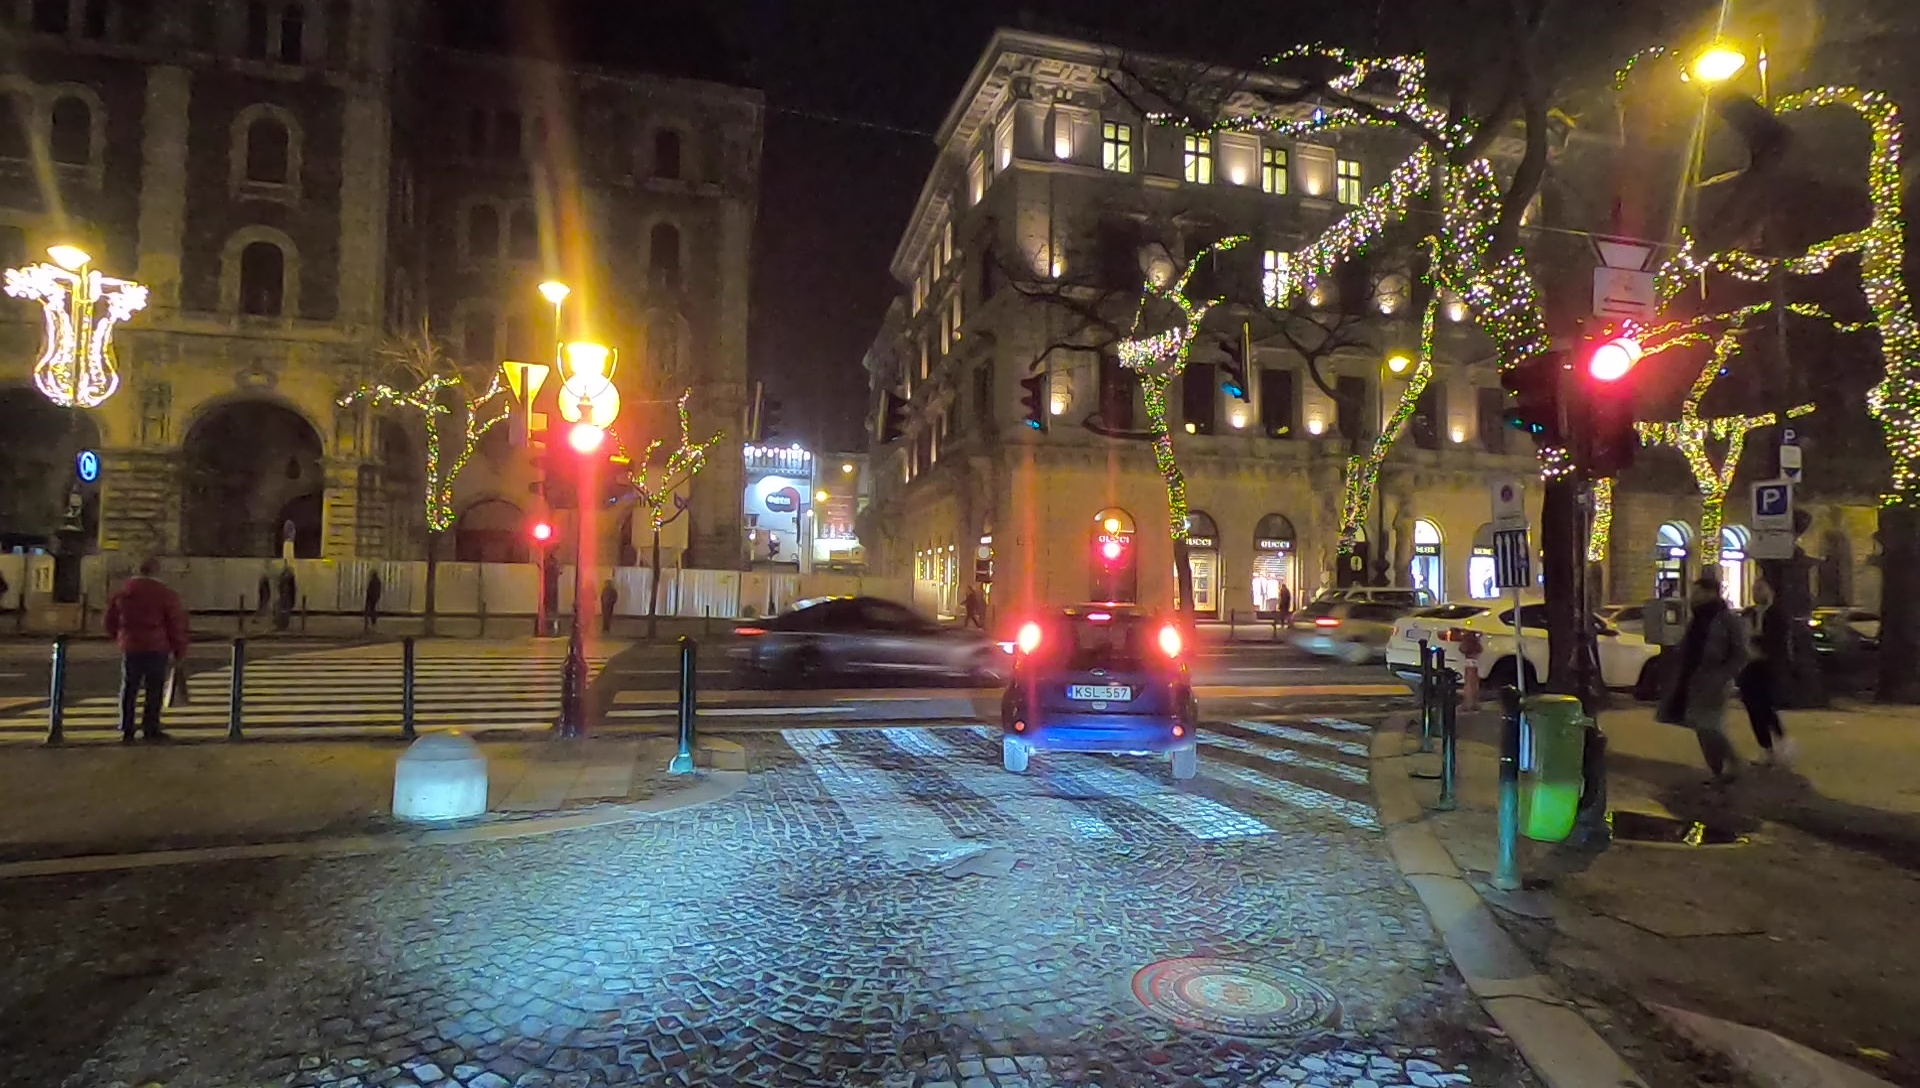person: (1663, 580, 1746, 787), (106, 558, 195, 745), (1736, 574, 1792, 765), (253, 571, 276, 626), (597, 578, 620, 633), (362, 567, 382, 629), (959, 585, 982, 633), (279, 565, 296, 625), (1278, 583, 1292, 625)
